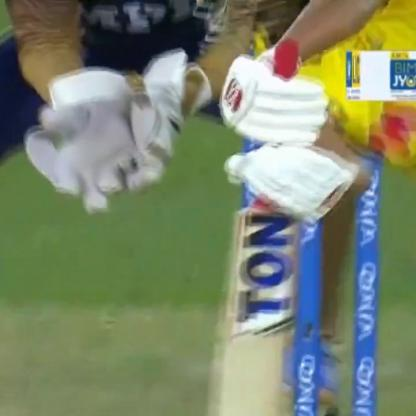bat: (200, 38, 316, 416)
